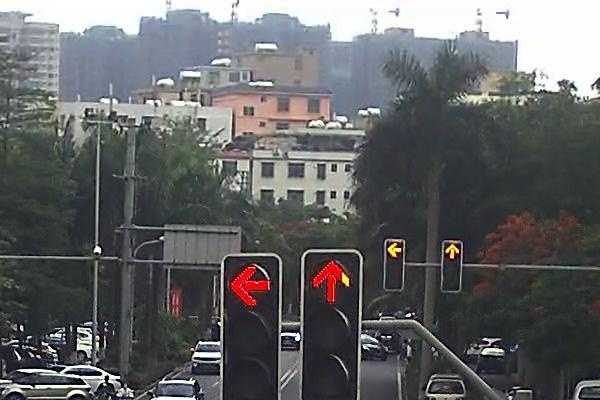redleft: (227, 261, 273, 309), (386, 242, 403, 260)
redstraight: (310, 257, 352, 307), (444, 242, 461, 261)
